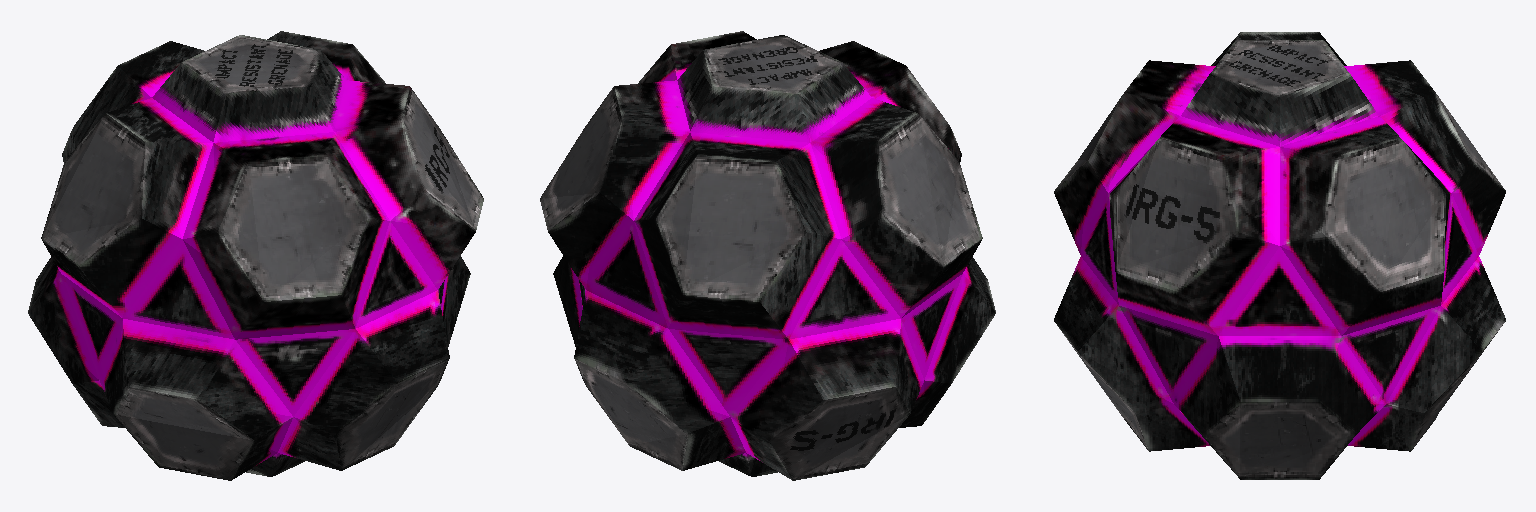
3 renders of one model, left to right at view 1: azimuth 30°, elevation 25°; view 2: azimuth 150°, elevation 25°; view 3: azimuth 270°, elevation 25°, orthographic.
Parts seen in each view (by area): view 1: GeoSphere001; view 2: GeoSphere001; view 3: GeoSphere001.
Part boxes in pixels (left/top/right/bottom): GeoSphere001: left=28, top=31, right=483, bottom=480; GeoSphere001: left=540, top=31, right=995, bottom=480; GeoSphere001: left=1054, top=32, right=1505, bottom=479.
Size of the model in its own units: 63.49 by 59.18 by 63.83.
Materials: 1 (1 with a texture image).